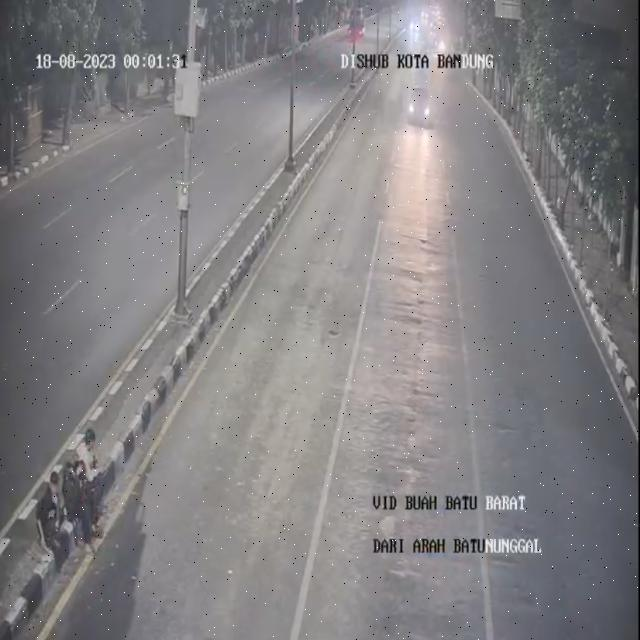cars: (404, 79, 439, 134)
